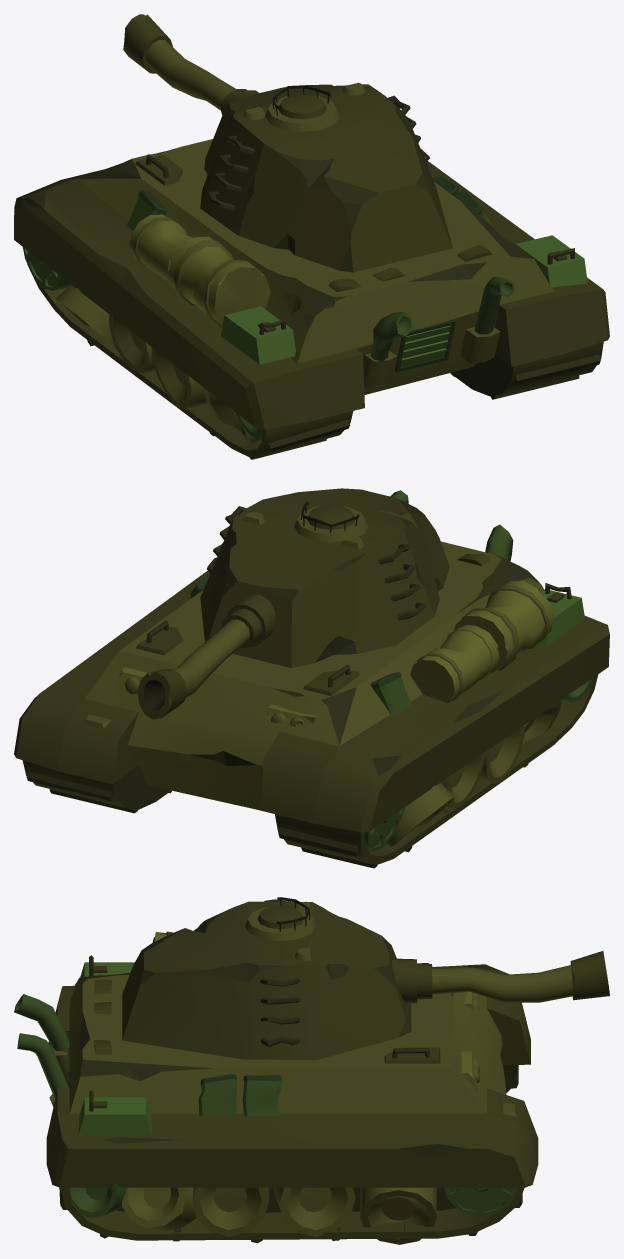
File: 20C_Tank01.fbx
3 renders of one model, top to bottom at view 1: azimuth 30°, elevation 25°; view 2: azimuth 150°, elevation 25°; view 3: azimuth 270°, elevation 25°, orthographic. The views are drawn at different scales.
Visible parts, largest first — view 1: 20C_Tank01; view 2: 20C_Tank01; view 3: 20C_Tank01.
Boxes of the visible parts, x1,y1,x2,y2 form: 20C_Tank01: [14, 14, 609, 459]; 20C_Tank01: [14, 488, 609, 868]; 20C_Tank01: [14, 897, 609, 1244].
Size of the model in its own units: 42.41 by 28.92 by 60.05.
